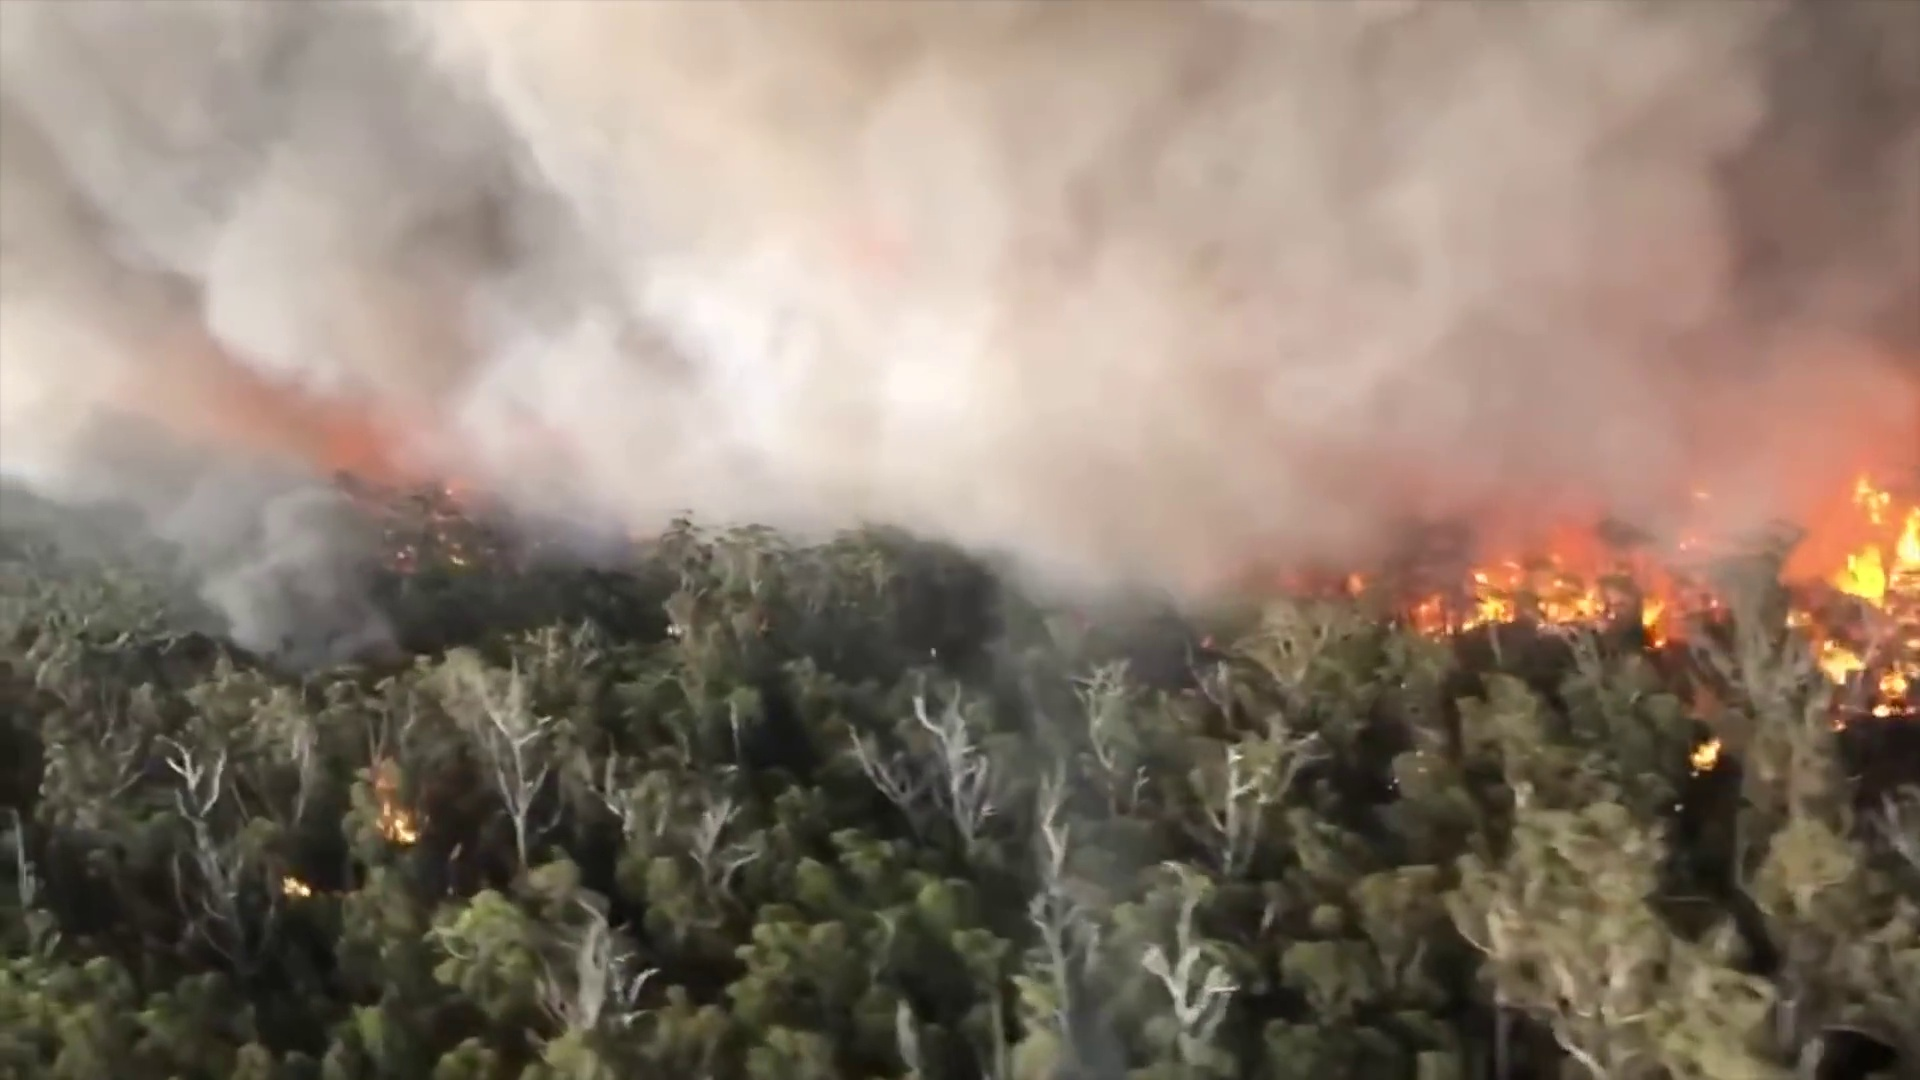fire: (1840, 556, 1886, 599), (1894, 506, 1920, 575), (1549, 593, 1601, 618), (1824, 644, 1854, 676), (1473, 593, 1513, 618), (1861, 480, 1887, 516), (392, 818, 417, 843), (1695, 738, 1717, 764), (1878, 673, 1903, 695), (1644, 605, 1664, 632), (284, 880, 307, 898)
